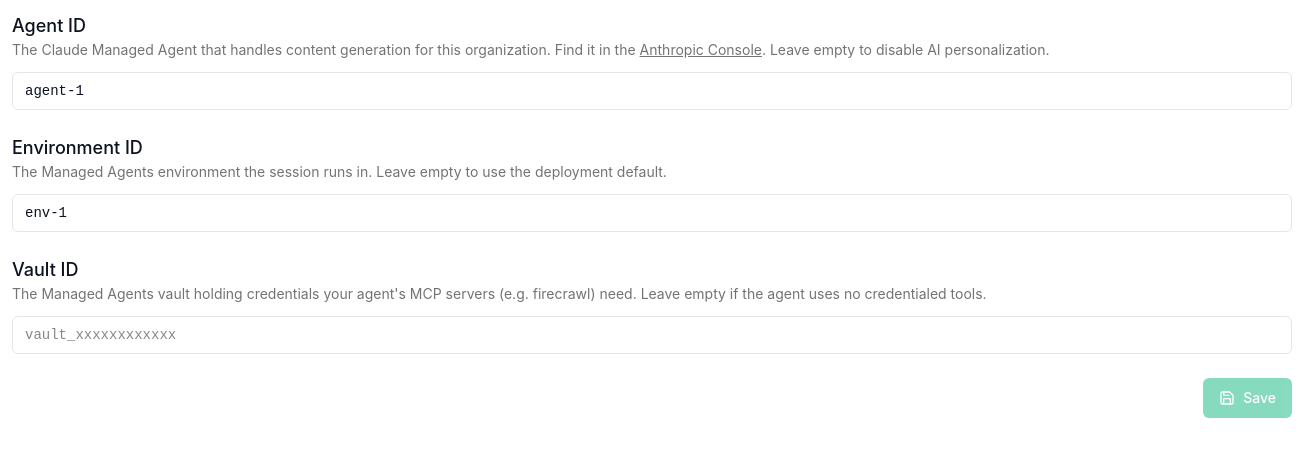
Test case: <AgentConfig /> › shows the 'already in use' message on a 409
Replace the text in the field with placeholder "agent_xxxxxxxxxxxx" below "Anthropic Console" with "agent-taken": (652, 91) [12,72,1292,110]
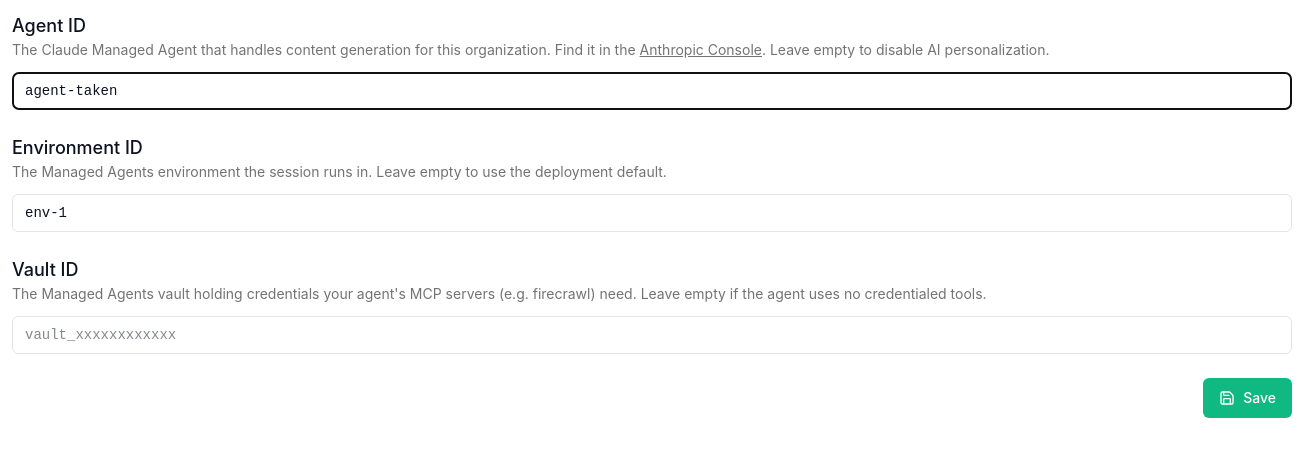
Click the button "Save": click(1248, 398) [1203,378,1292,418]
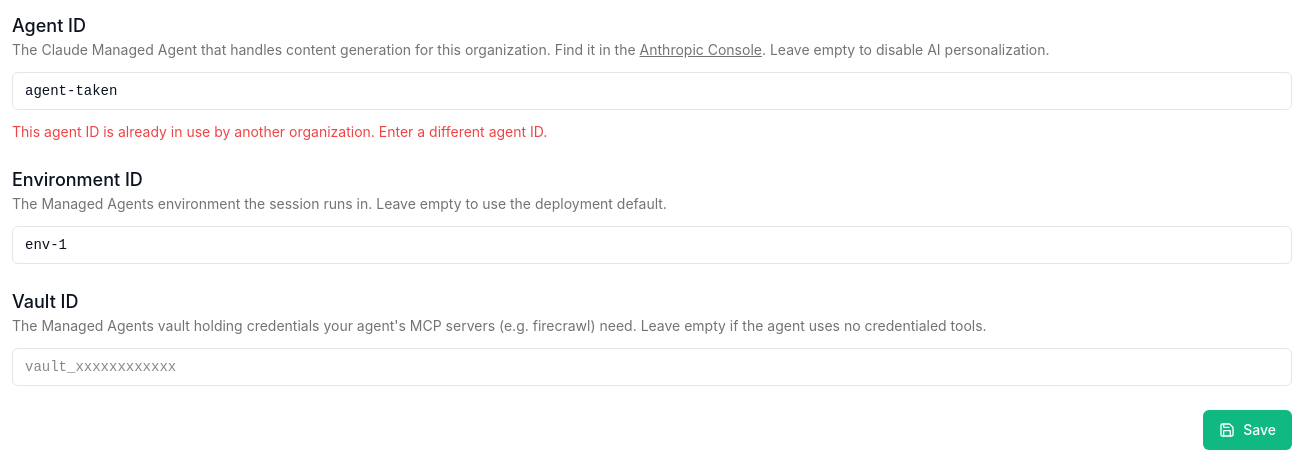
Expected: the text "already in use by another organization" is shown, [12,123,547,140]
